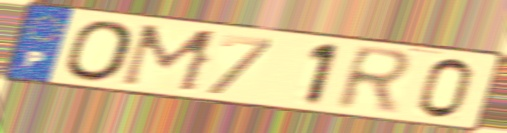0: (415, 56, 476, 119)
1: (303, 42, 345, 109)
7: (205, 32, 276, 96)
M: (116, 22, 224, 95)
O: (63, 19, 138, 84)
R: (331, 43, 418, 117)
